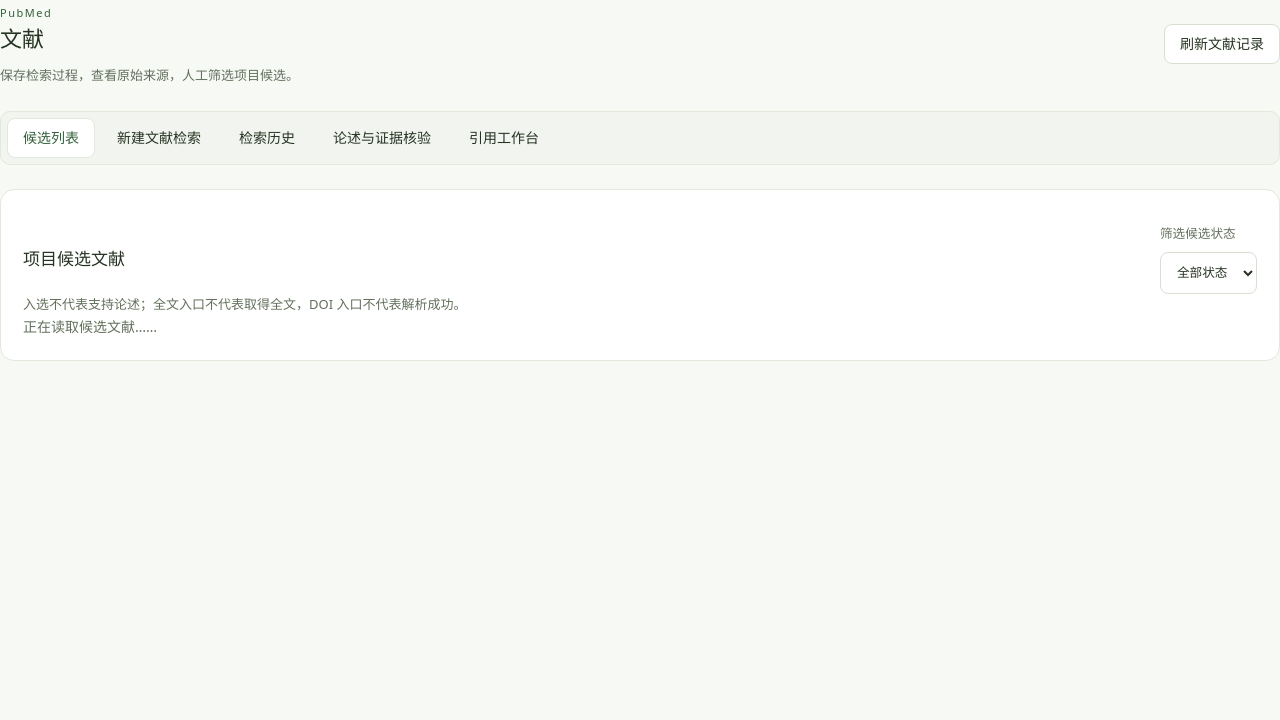
Test: shows saved replay context unchanged with neutral receipt wording in zh-CN
Click the button "候选列表". click: (51, 138)
box: [7, 118, 95, 158]
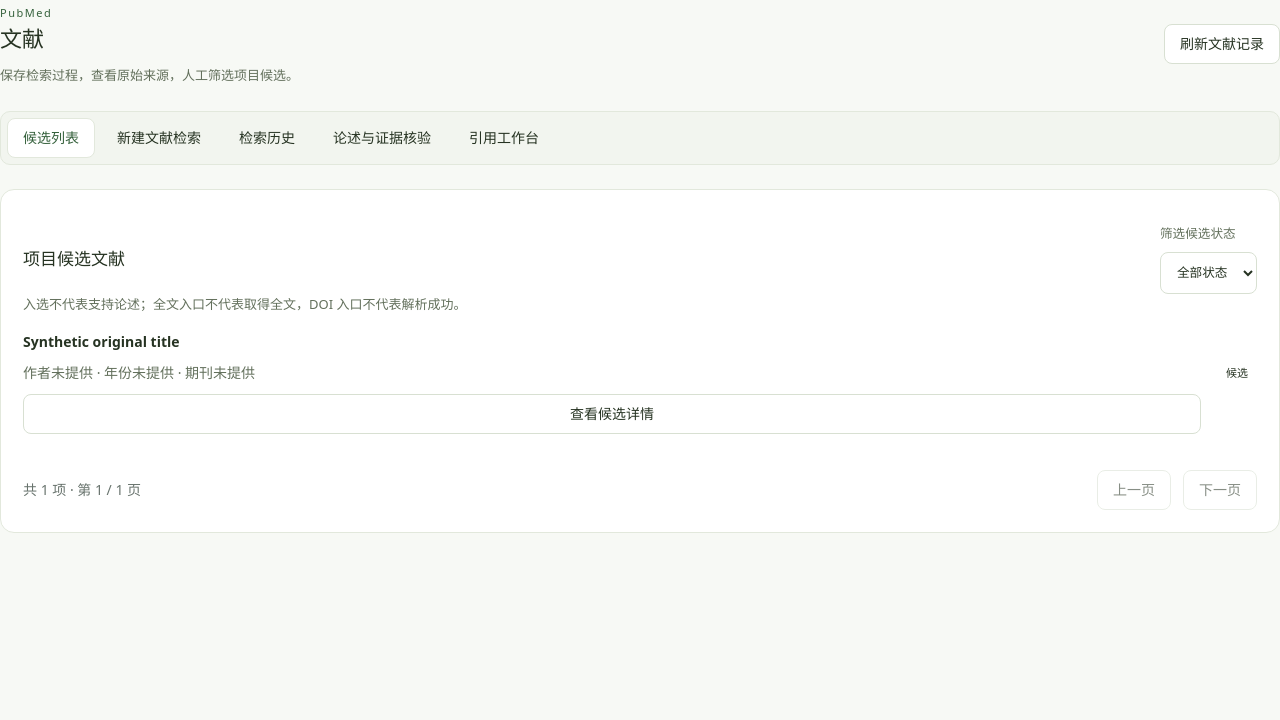
Click the button "查看候选详情". click: (612, 414)
box: [23, 394, 1201, 434]
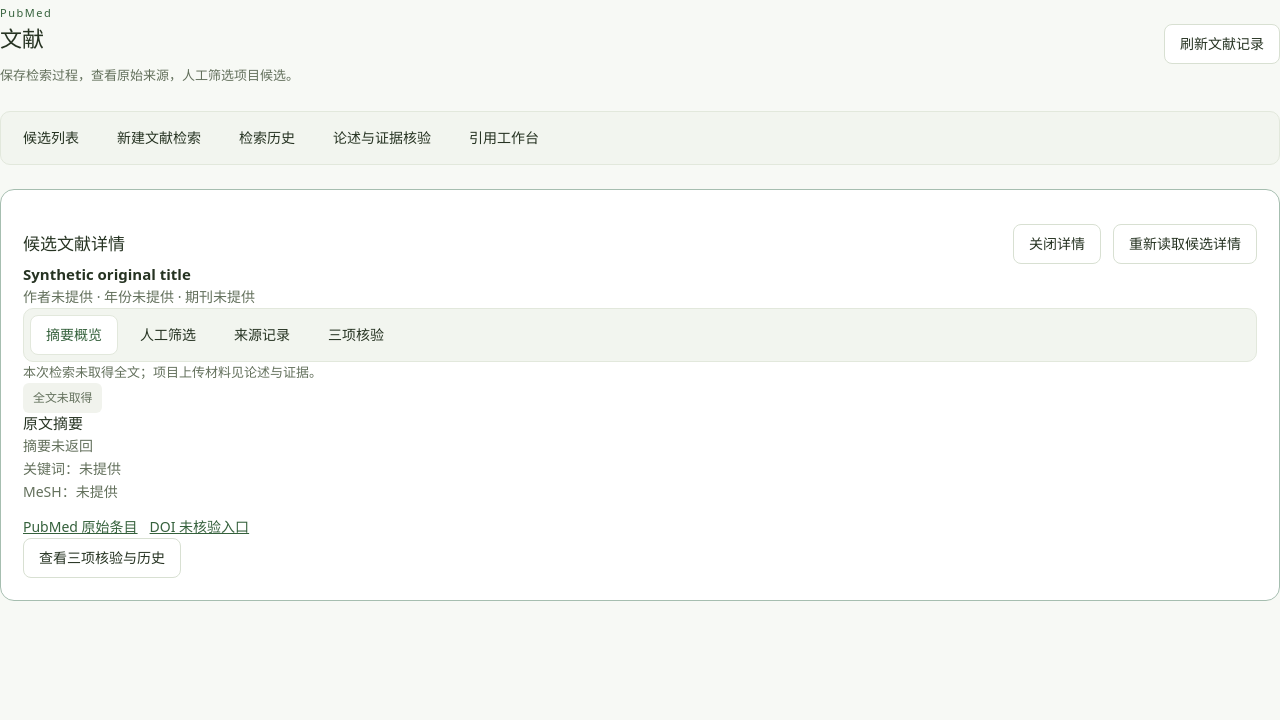
Click the button "来源记录". click: (262, 335)
box: [218, 315, 306, 355]
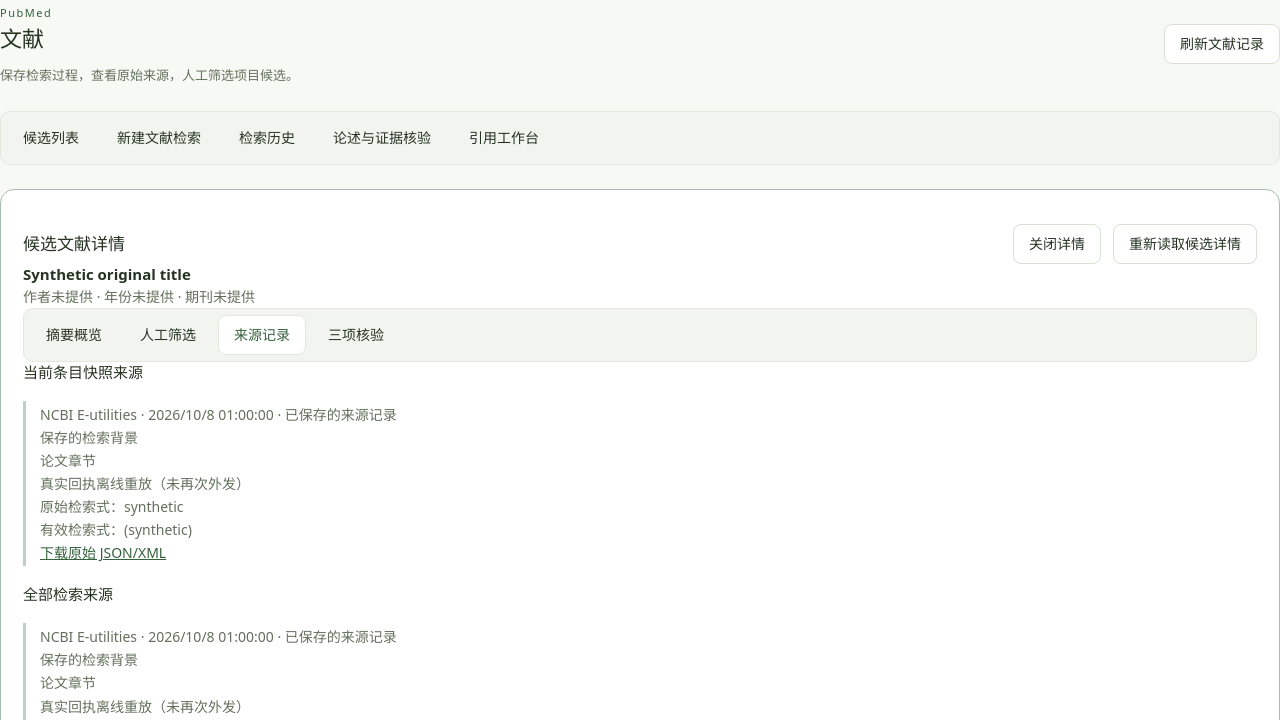
Expected: the text "保存的检索背景" is shown 2 times, [40, 428, 138, 447]; [40, 650, 138, 669]
Expected: the text "论文章节" is shown 2 times, [40, 451, 96, 470]; [40, 673, 96, 692]
Expected: the text "真实回执离线重放（未再次外发）" is shown 2 times, [40, 474, 250, 493]; [40, 696, 250, 716]
